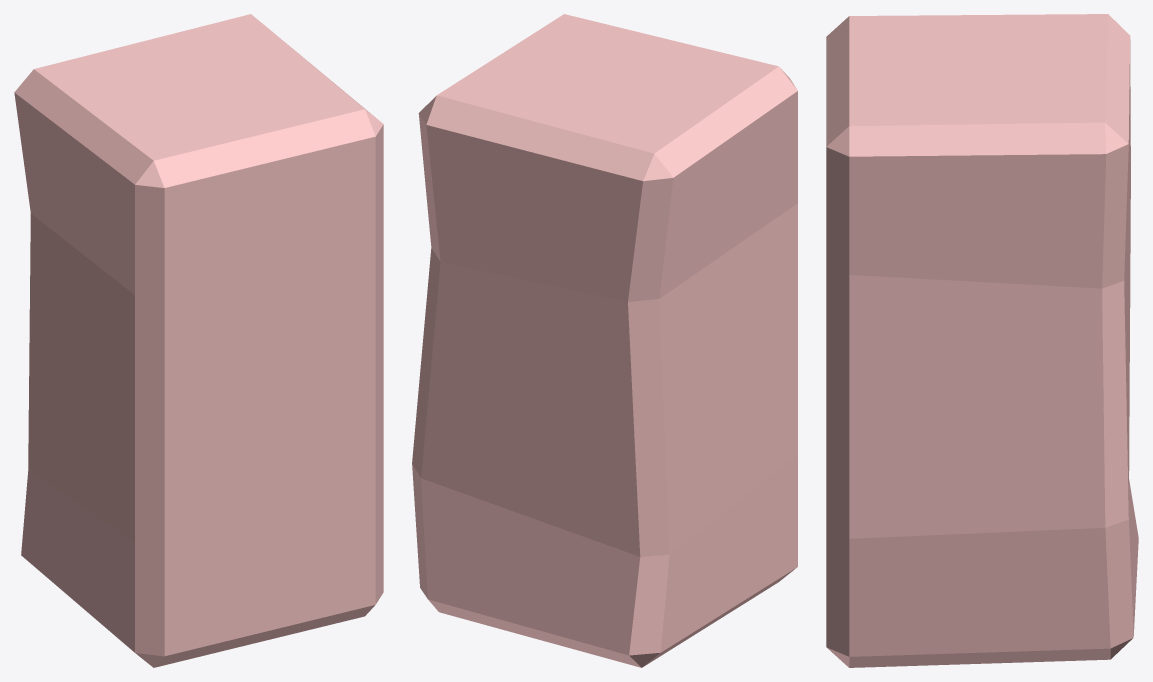
File: Stone_L4.fbx
3 renders of one model, left to right at view 1: azimuth 30°, elevation 25°; view 2: azimuth 150°, elevation 25°; view 3: azimuth 270°, elevation 25°, orthographic. The views are drawn at different scales.
Visible parts, largest first — view 1: Stone; view 2: Stone; view 3: Stone.
Boxes of the visible parts, x1,y1,x2,y2 form: Stone: [14, 14, 383, 667]; Stone: [412, 14, 797, 667]; Stone: [826, 14, 1138, 667].
Bounding box in the file's own units: 2.09 × 3.95 × 2.04.
